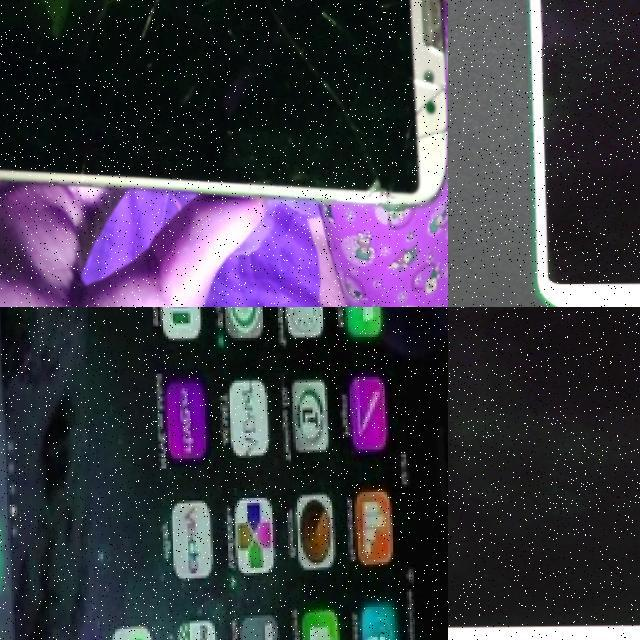scratch: (118, 0, 204, 54)
screen crack: (344, 0, 448, 161)
